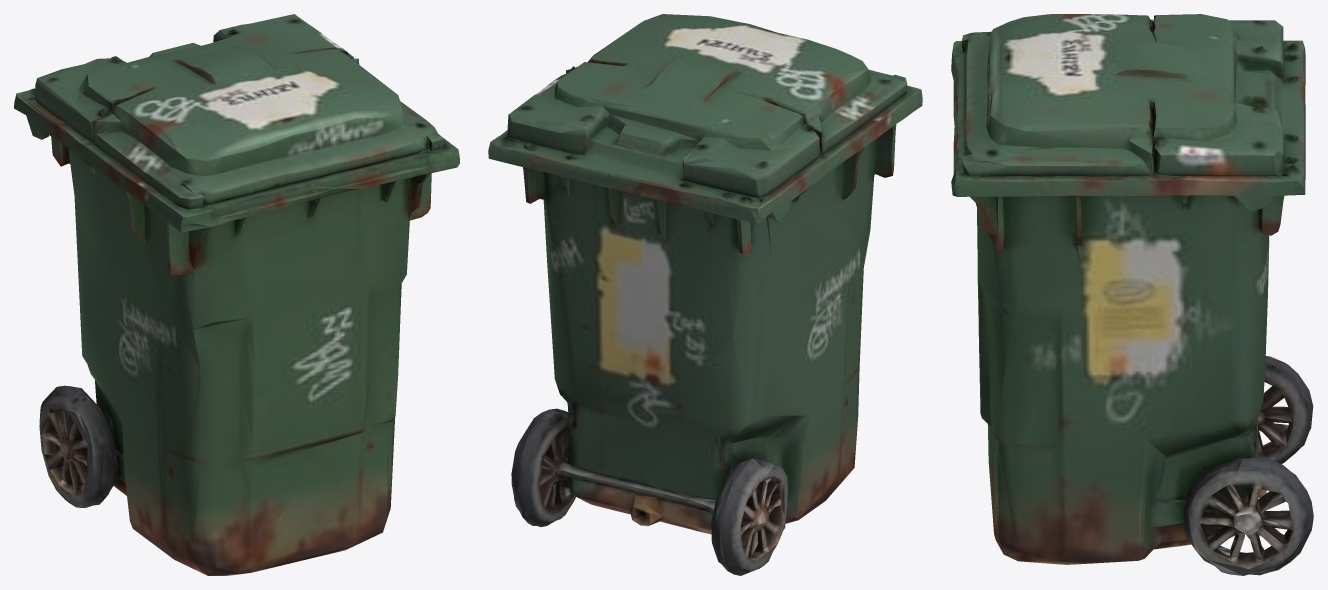
The model's file is street_city_trash.glb.
The picture shows the model from 3 angles, left to right: view 1: azimuth 30°, elevation 25°; view 2: azimuth 150°, elevation 25°; view 3: azimuth 270°, elevation 25°; orthographic projection. The views are drawn at different scales.
Parts seen in each view (by area): view 1: turn; view 2: turn; view 3: turn.
Boxes of the visible parts, bbox=[...] form: turn: bbox=[14, 14, 459, 575]; turn: bbox=[488, 14, 922, 575]; turn: bbox=[951, 14, 1313, 575].
Size of the model in its own units: 0.7153 by 1.1 by 0.7738.
1 material, 1 textured.
